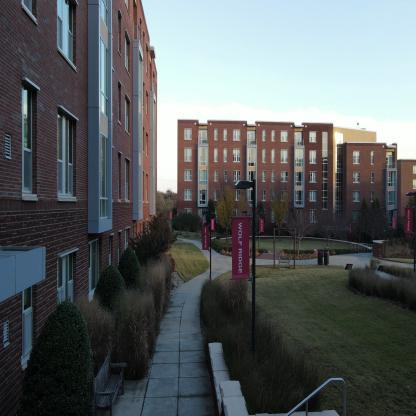Wolf Ridge: (0, 0, 170, 407), (174, 94, 416, 266)
